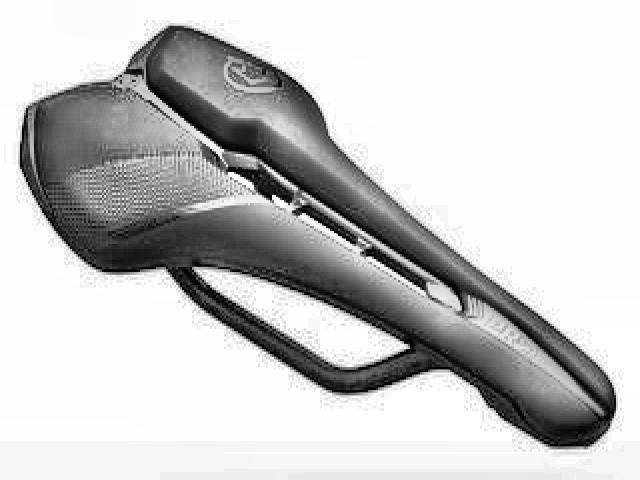saddle: (18, 23, 618, 456)
